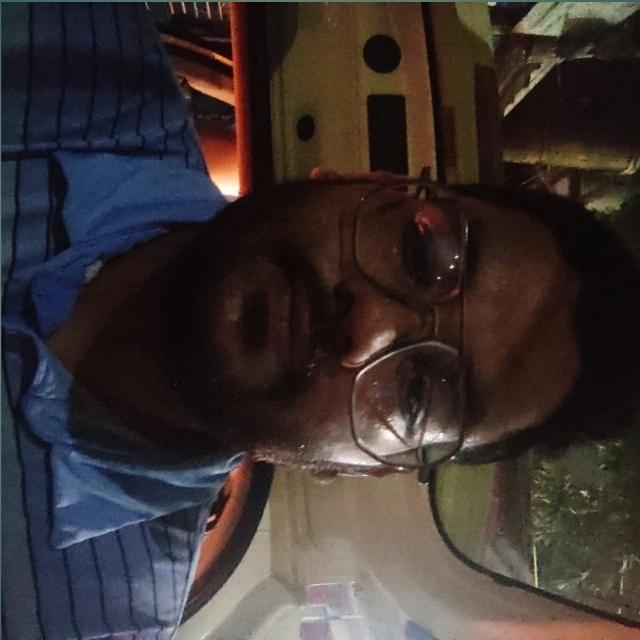Natural: (153, 136, 600, 480)
